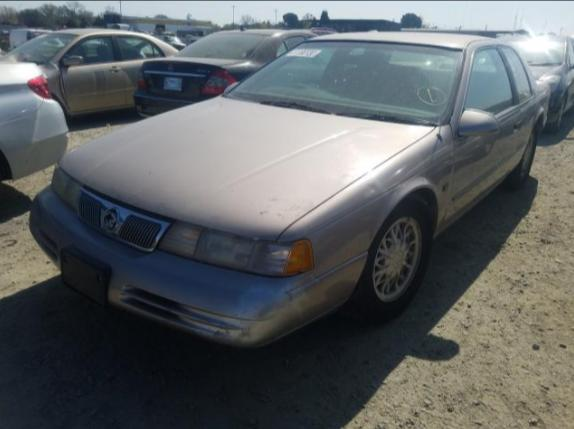Dent: (356, 182, 375, 201)
Flaking: (199, 275, 305, 339), (283, 204, 298, 210), (259, 206, 267, 215), (267, 195, 276, 201), (277, 211, 283, 218)
Missing part: (63, 251, 103, 295)
